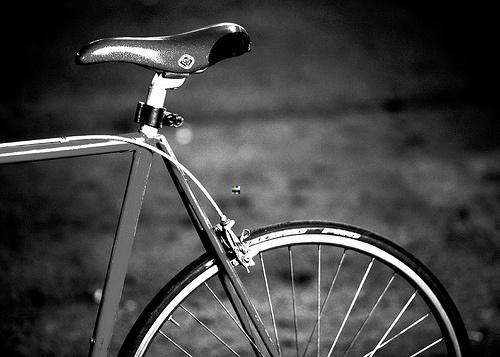car: (1, 23, 471, 357)
